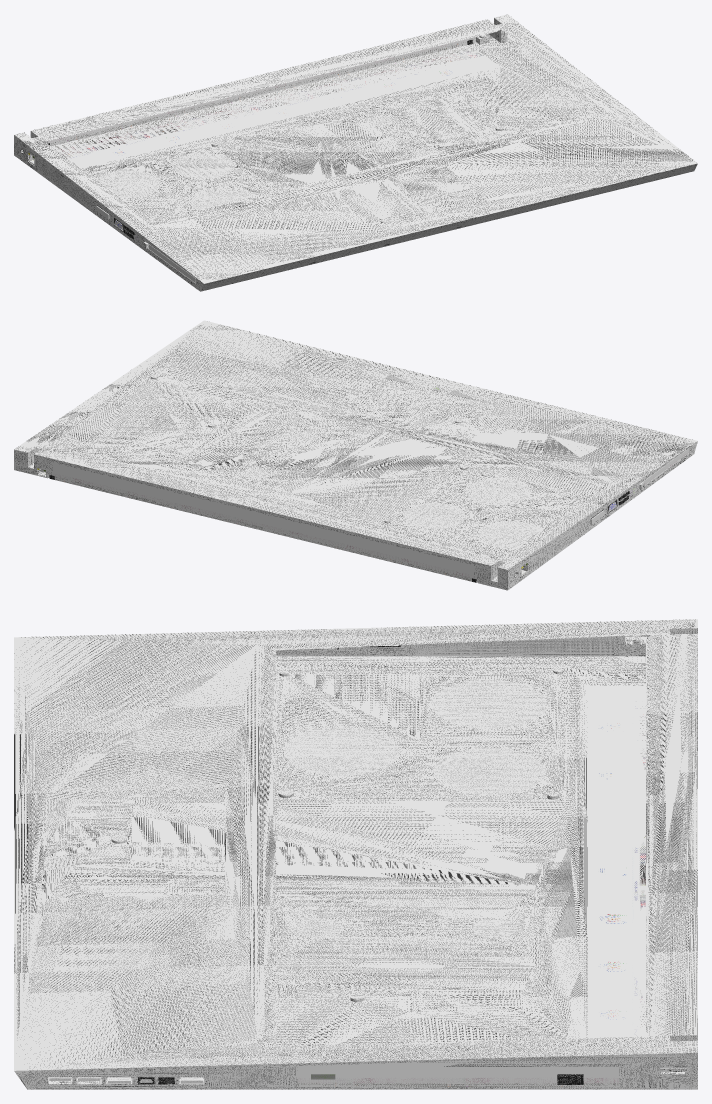
3 renders of one model, top to bottom at view 1: azimuth 30°, elevation 25°; view 2: azimuth 150°, elevation 25°; view 3: azimuth 270°, elevation 25°, orthographic. The views are drawn at different scales.
Size of the model in its own units: 1.33 by 0.0525 by 0.8786.
